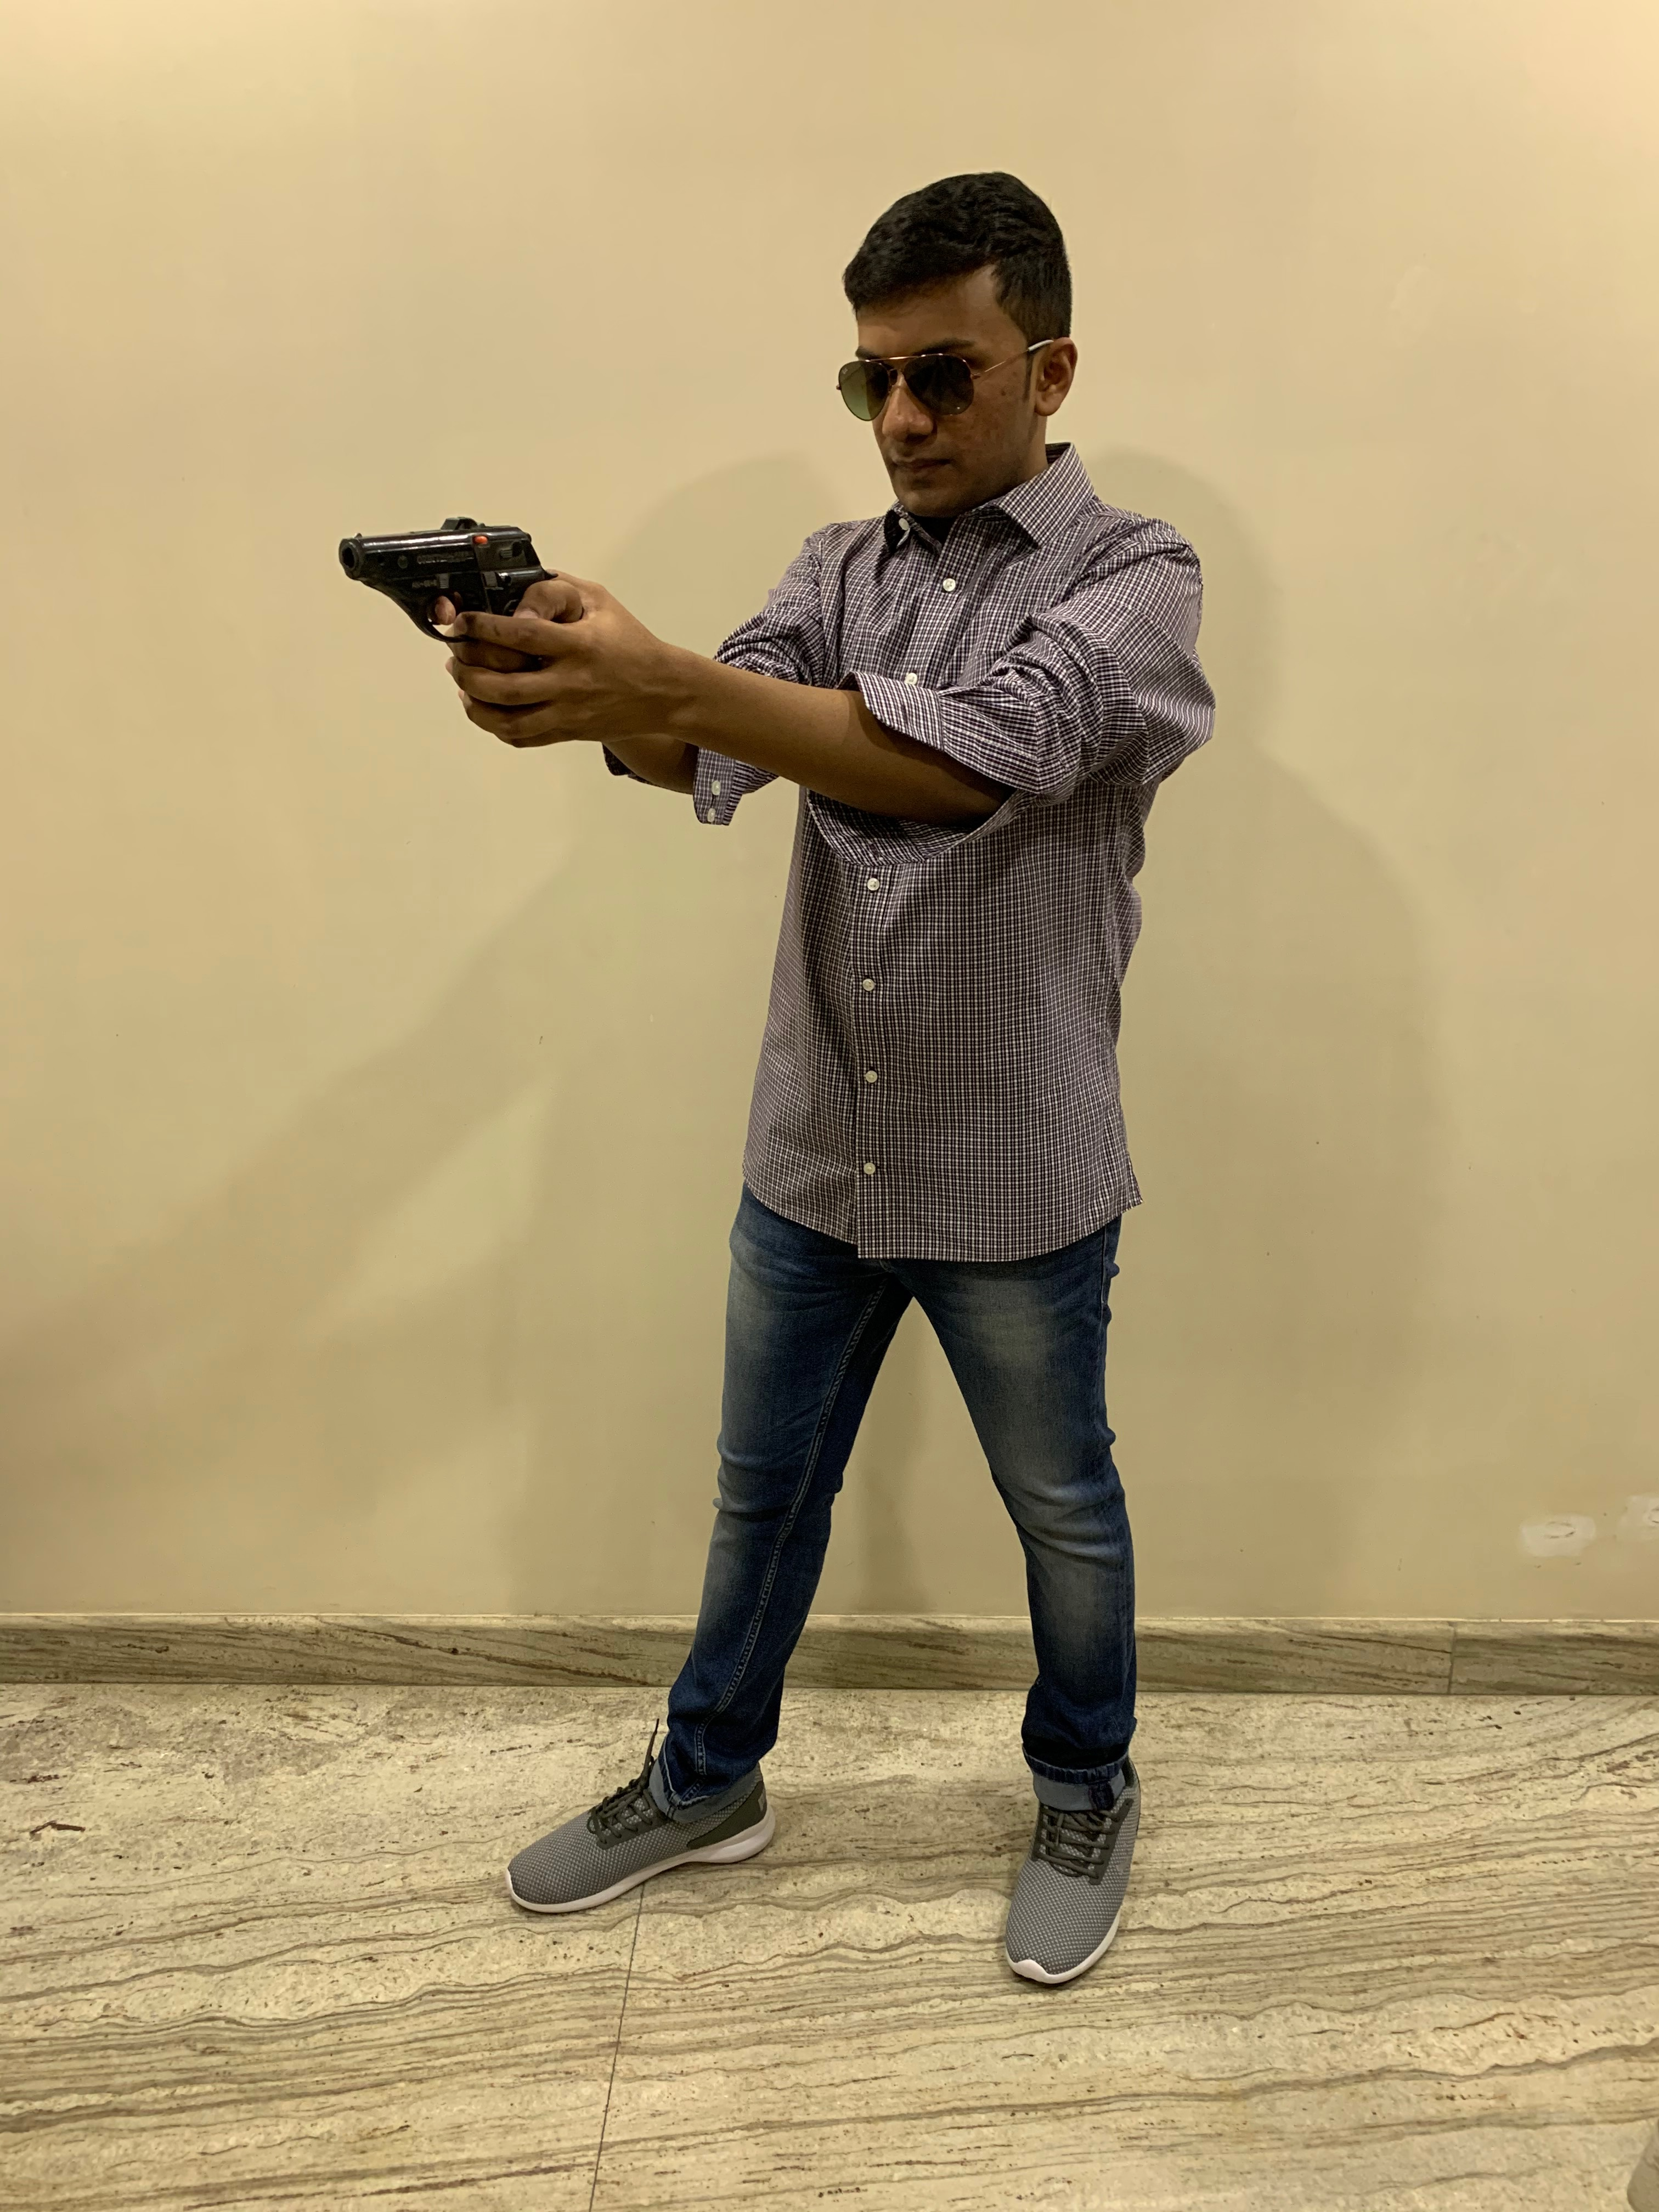gun: (329, 510, 552, 643)
